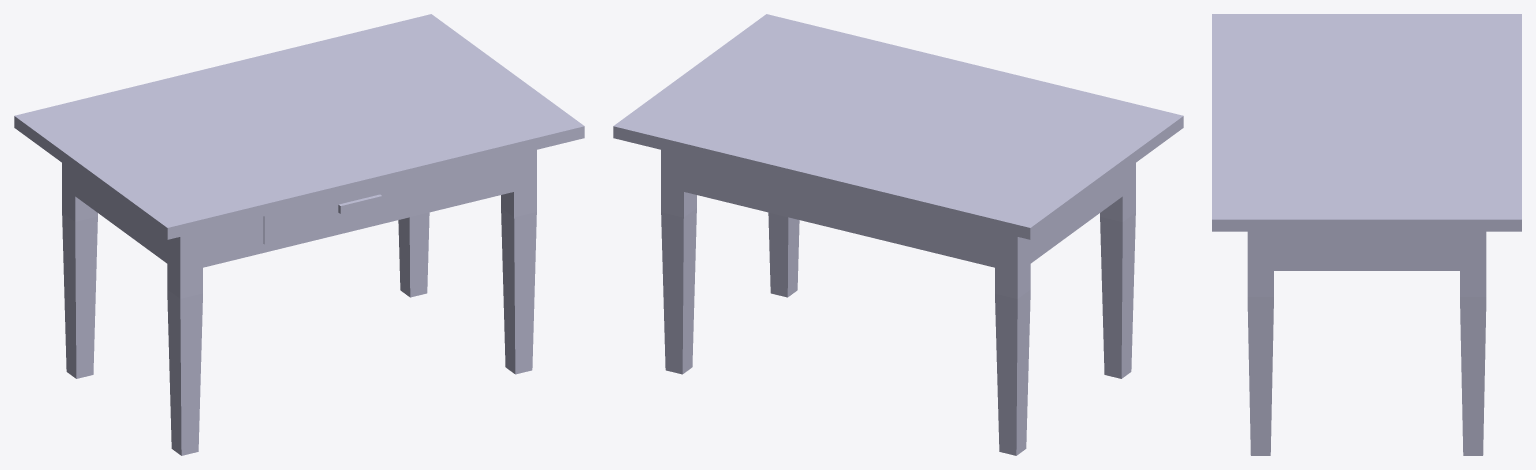
The model's file is table.gltf.
The picture shows the model from 3 angles, left to right: view 1: azimuth 30°, elevation 25°; view 2: azimuth 150°, elevation 25°; view 3: azimuth 270°, elevation 25°; orthographic projection.
Parts seen in each view (by area): view 1: table_clone; view 2: table_clone; view 3: table_clone.
Boxes of the visible parts, <box> form: table_clone: <box>14,14,584,455</box>; table_clone: <box>613,14,1183,455</box>; table_clone: <box>1212,14,1521,455</box>.
Size of the model in its own units: 1.1 by 0.63 by 0.7.
